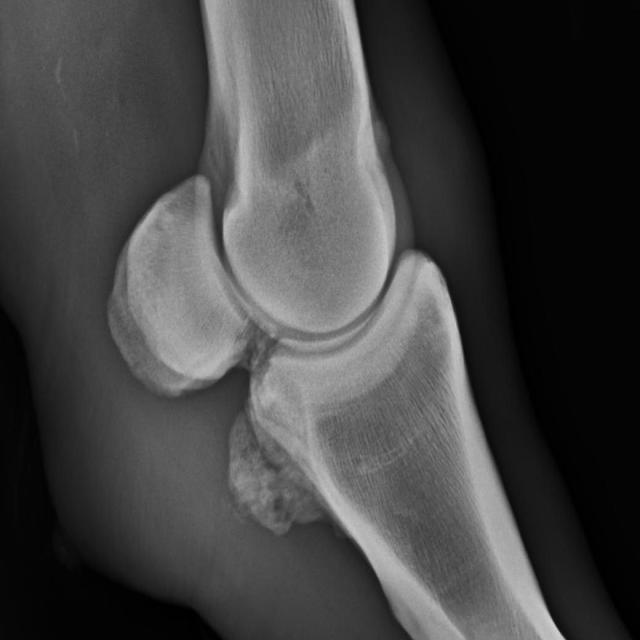bone remodeling: (218, 393, 346, 560)
